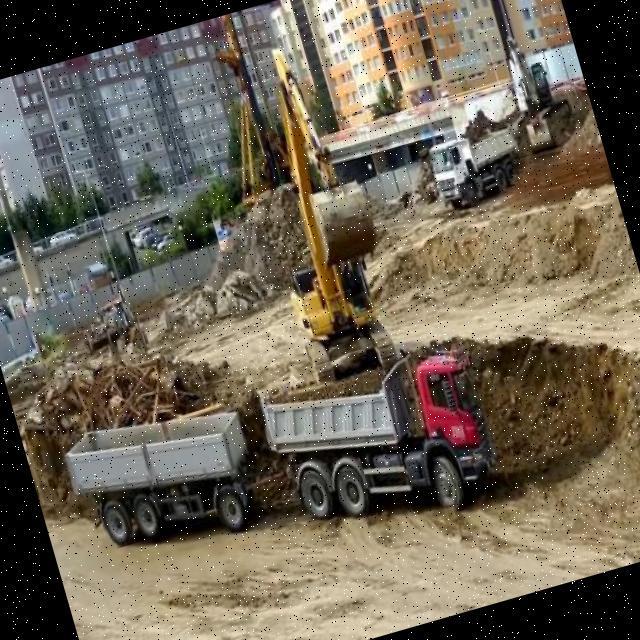Dump Truck: (57, 321, 508, 609), (422, 120, 530, 214)
Excavator: (220, 33, 413, 390), (482, 22, 580, 157)
